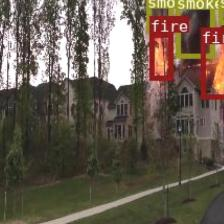fire: (200, 27, 224, 97), (148, 32, 172, 79)
smoke: (175, 0, 214, 57), (146, 0, 171, 32), (217, 0, 224, 24)
